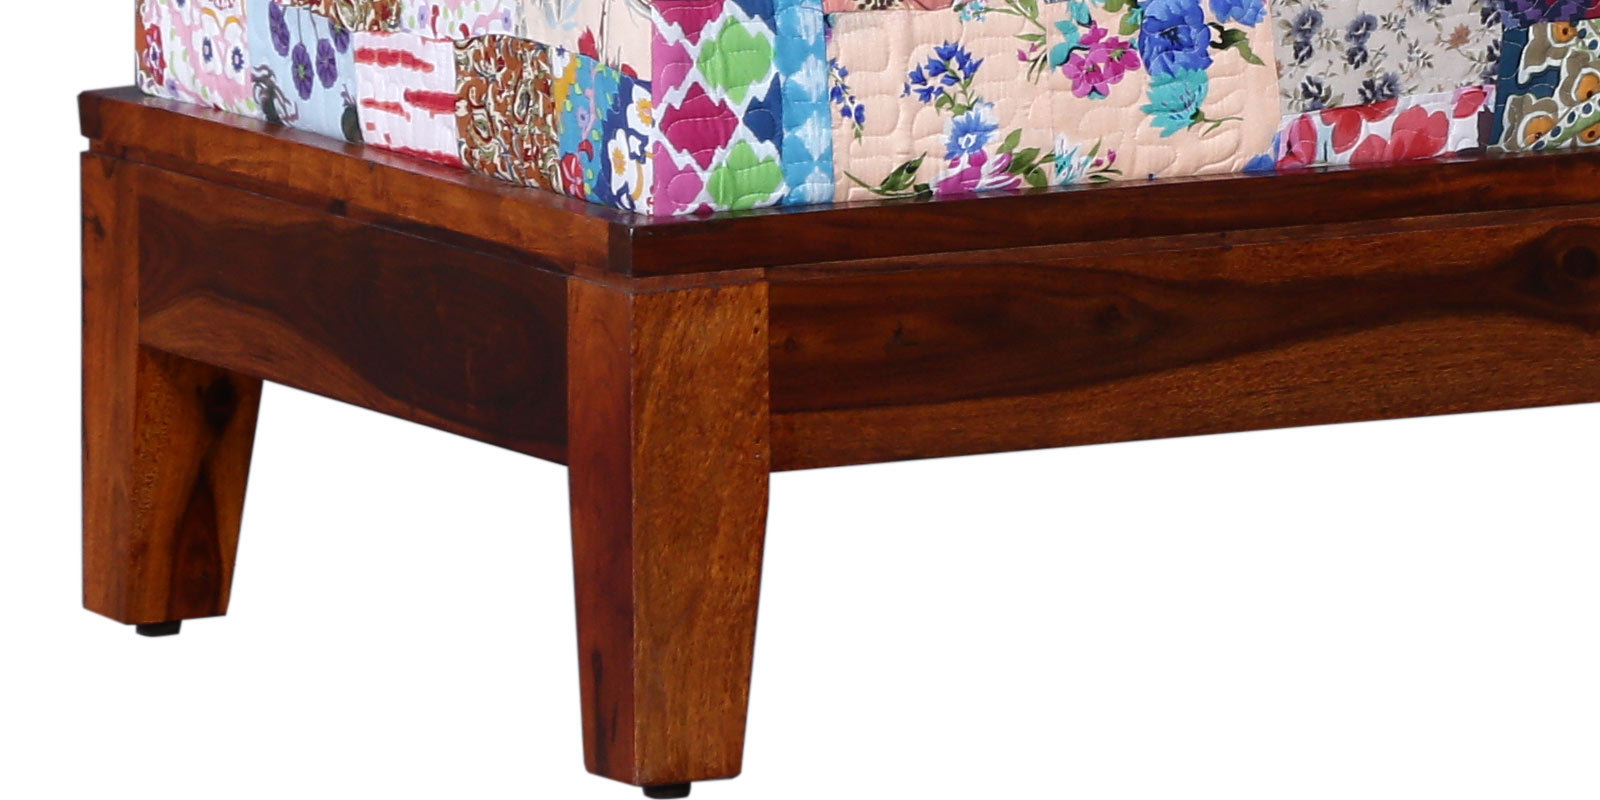Hayden Three Seater Sofa in Honey Oak Finish by Bohemiana: (53, 1, 1592, 800)
